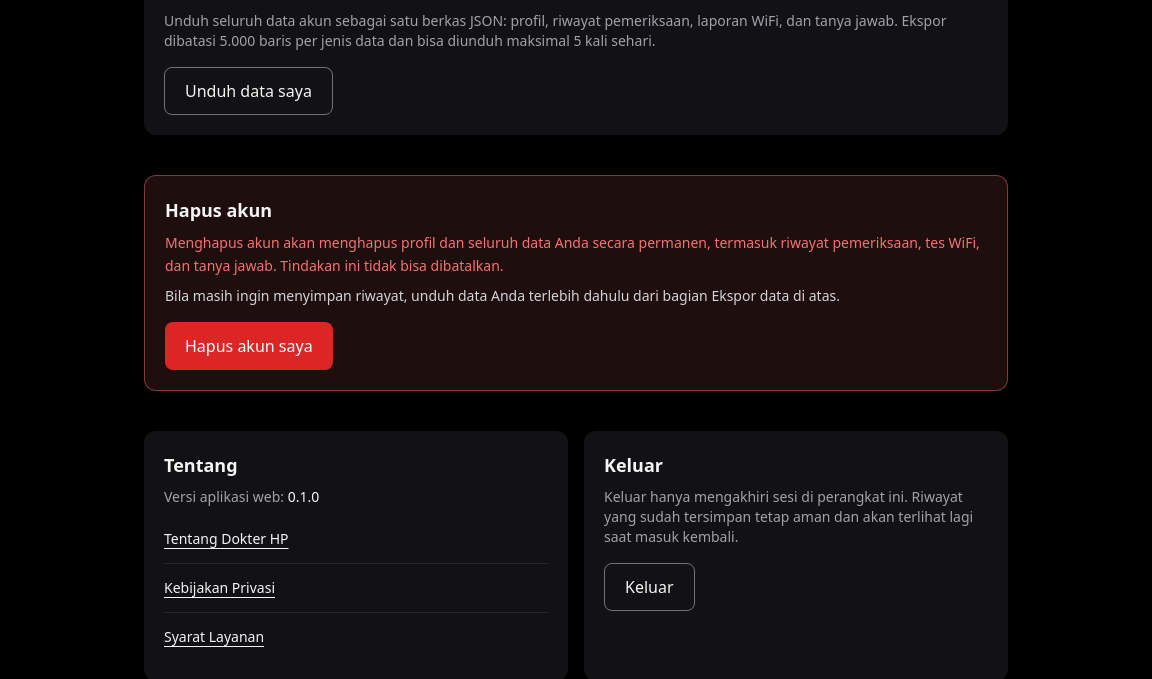
it: PengaturanPage (redesign v2.0) › hapus akun: Batal menutup konfirmasi tanpa memanggil DELETE
This screenshot has width=1152, height=679.
(page scrolled)
Click the button "Hapus akun saya". click: [249, 346]
box: [165, 322, 333, 370]
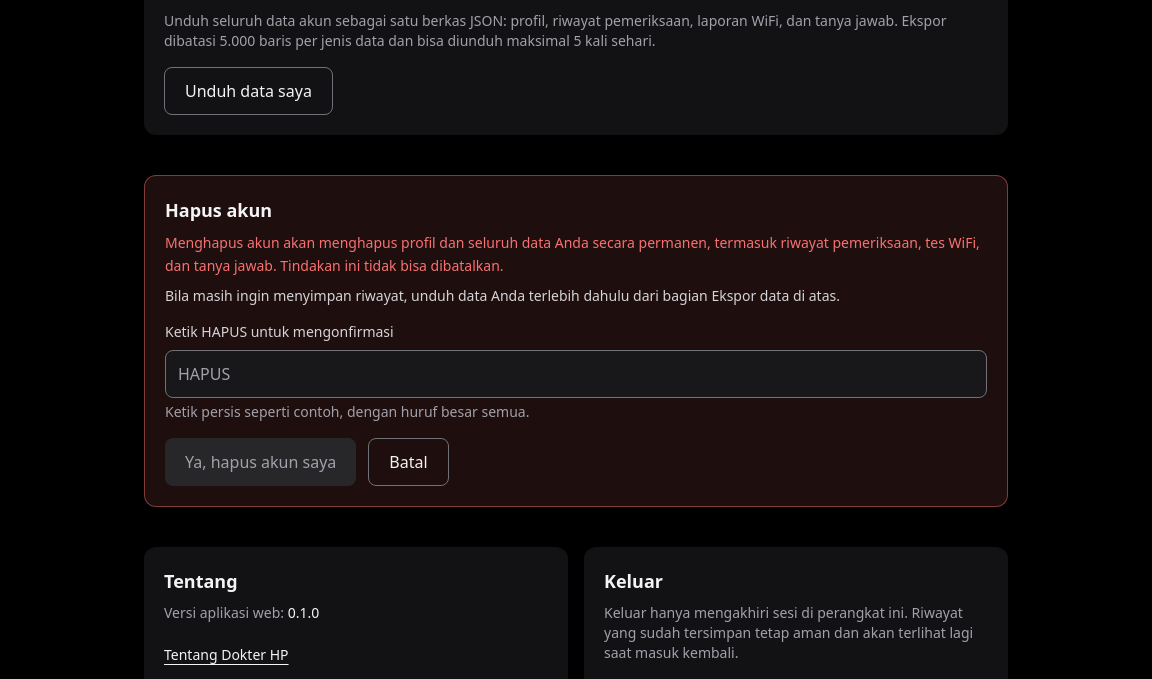
Check: the field with id "konfirmasi-hapus" is shown, box [165, 350, 987, 398]
Click the button "Batal". click: [408, 462]
box: [368, 438, 449, 486]
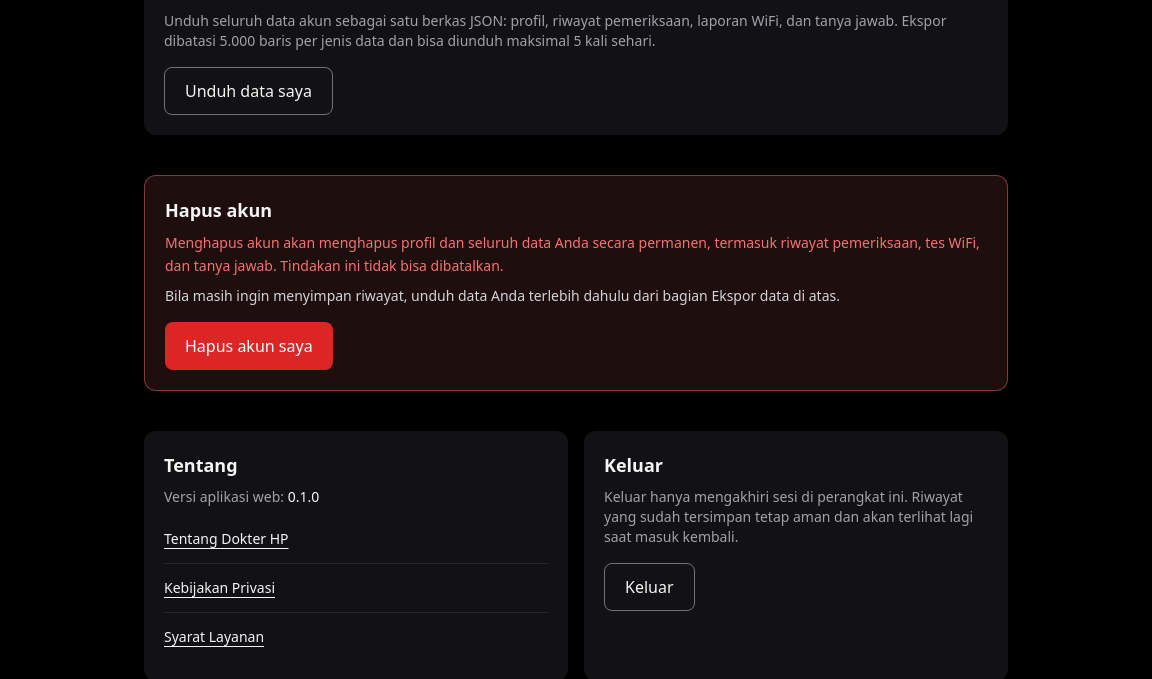
Check: the button "Hapus akun saya" is shown, box [165, 322, 333, 370]
Check: the label with id "konfirmasi-hapus" is gone
